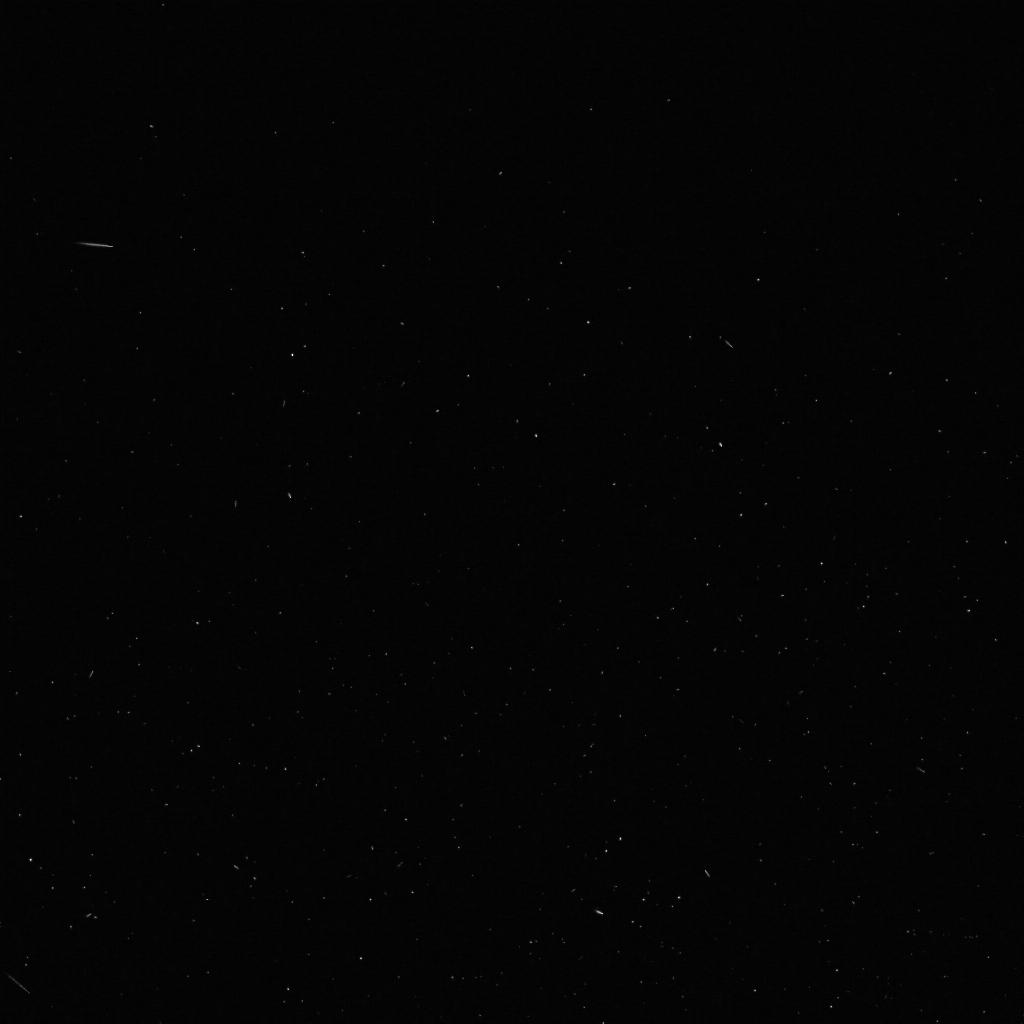Positive: (74, 229, 121, 258), (3, 969, 39, 1000), (712, 329, 742, 355), (586, 902, 613, 923), (909, 761, 932, 778), (80, 907, 101, 925), (695, 867, 720, 879), (85, 666, 97, 680)
